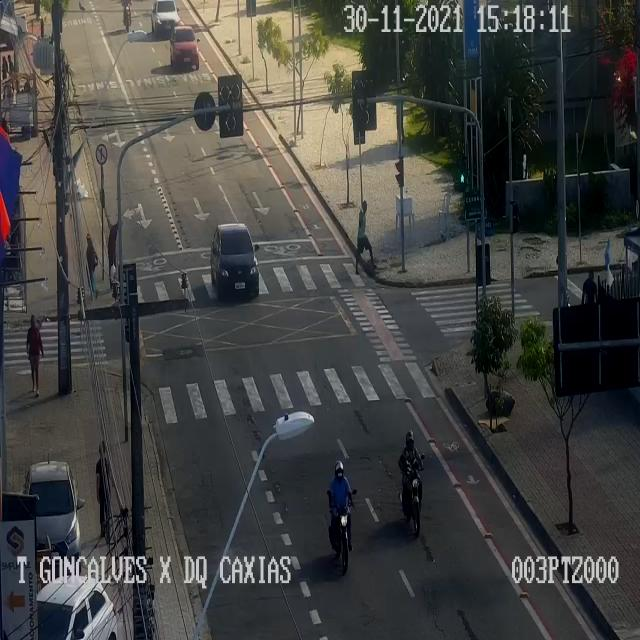Car: (25, 462, 81, 572), (36, 575, 116, 639), (210, 222, 258, 296), (150, 0, 182, 39), (170, 25, 198, 68)
Motorcycle: (328, 459, 354, 572), (398, 430, 424, 534), (118, 0, 131, 36)
